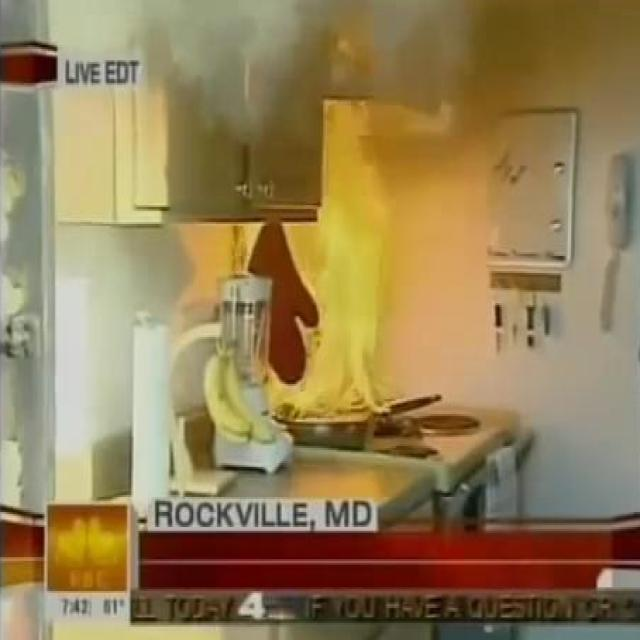fire: (144, 0, 342, 149), (354, 0, 496, 109)
smoke: (298, 108, 393, 413)
